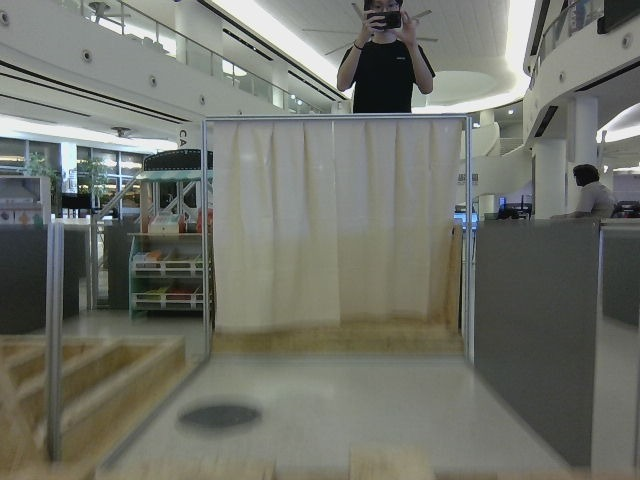curtain: (211, 120, 461, 331)
